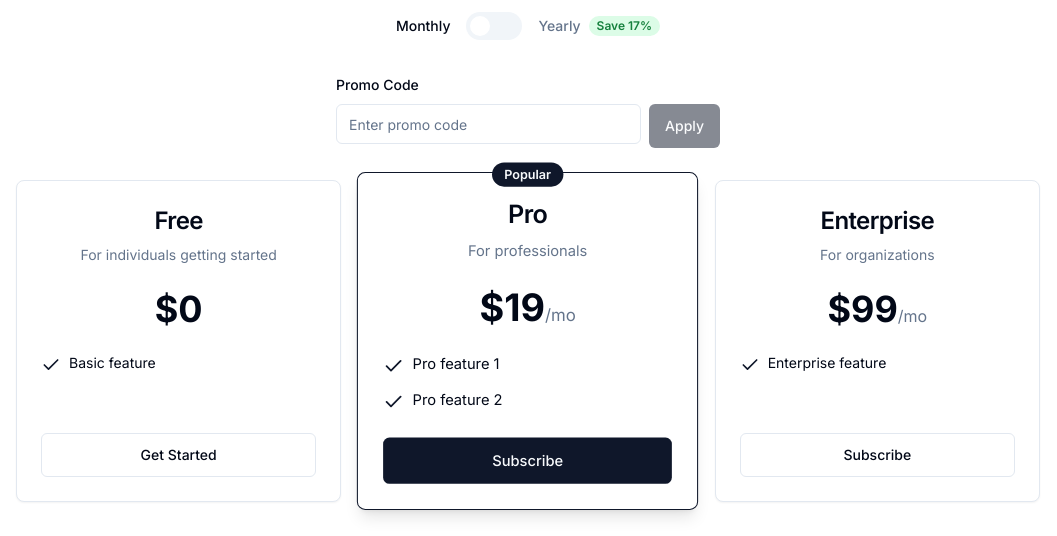
Test: PricingTable › interval toggle › updates prices when interval changes
Expected: the text "$19" is shown, [480, 284, 545, 330]
Toggle to yearly
Click the button "Yearly Save 17%" at [599, 26], box [538, 16, 660, 36]
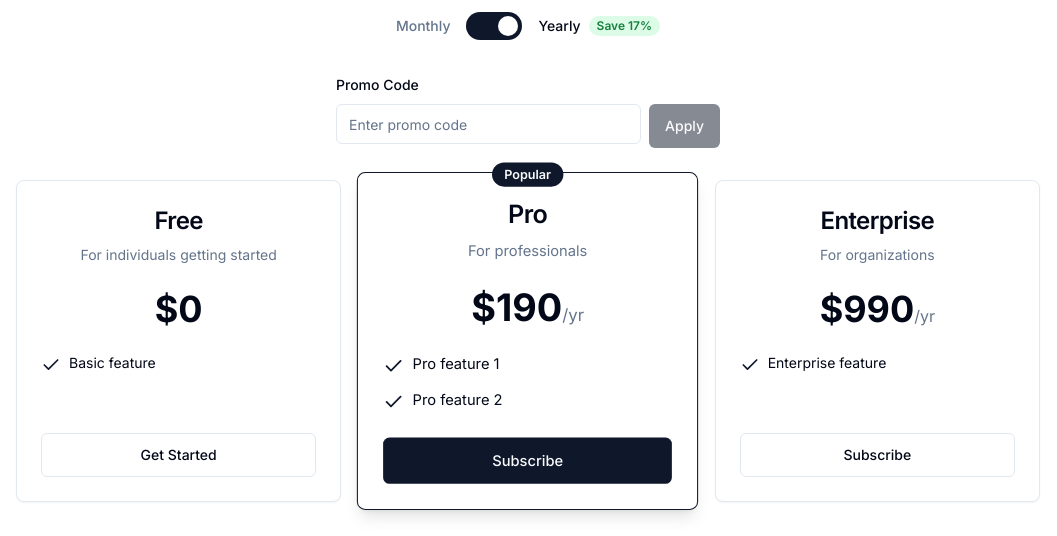
Result: the text "$190" is shown at [472, 284, 563, 330]
